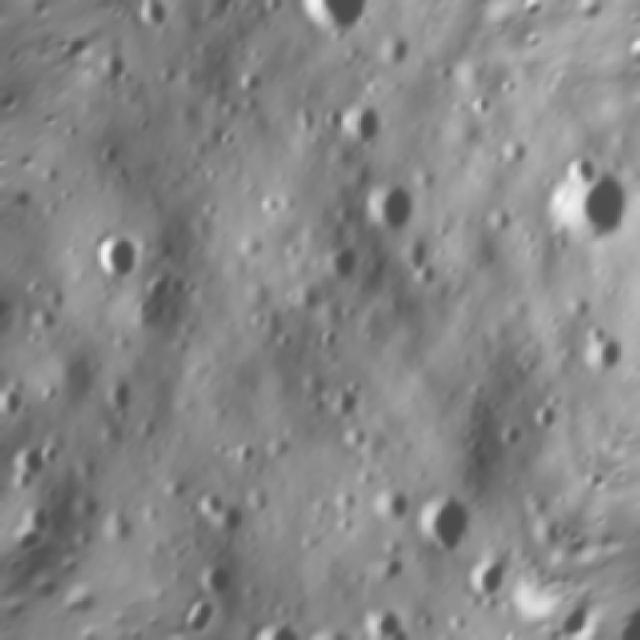crater: (537, 147, 640, 267), (400, 476, 500, 575), (0, 423, 86, 511), (78, 211, 162, 297), (178, 476, 264, 552), (278, 0, 392, 54), (455, 544, 530, 624), (352, 167, 428, 244), (567, 314, 640, 391), (356, 469, 424, 538), (336, 90, 402, 153), (315, 224, 379, 287), (188, 549, 252, 611), (0, 361, 48, 433), (247, 597, 321, 640), (124, 0, 181, 42), (0, 268, 29, 347), (93, 44, 141, 91), (296, 614, 382, 640)
